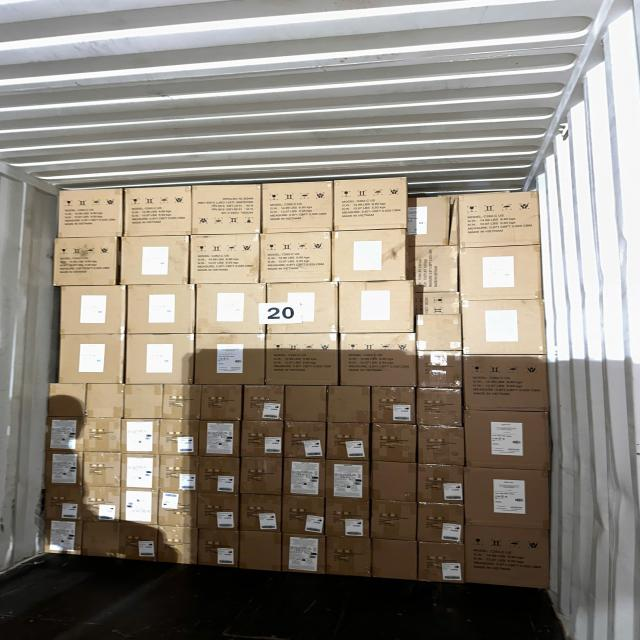Carton: (463, 526, 549, 592), (464, 408, 552, 469), (464, 466, 551, 527), (464, 352, 550, 409), (463, 300, 548, 357), (460, 190, 542, 248), (461, 249, 547, 302), (340, 333, 418, 388), (330, 232, 408, 285), (338, 281, 415, 334), (192, 332, 264, 387), (266, 281, 340, 334), (334, 178, 407, 231), (265, 334, 339, 386), (261, 234, 333, 286), (262, 182, 334, 234), (189, 183, 259, 236), (124, 335, 196, 386), (196, 282, 266, 334), (120, 234, 191, 285), (126, 288, 196, 339), (190, 233, 260, 283), (125, 186, 193, 237), (60, 284, 126, 334), (59, 335, 124, 385), (59, 189, 122, 239), (55, 236, 119, 285), (198, 458, 240, 524), (412, 247, 458, 293), (372, 539, 420, 582), (413, 195, 453, 246), (418, 541, 464, 585), (326, 538, 373, 580), (414, 314, 464, 353), (369, 462, 415, 504), (418, 465, 466, 505), (415, 389, 464, 428), (418, 423, 464, 464), (114, 522, 158, 564), (371, 502, 417, 542), (418, 506, 464, 546), (237, 532, 280, 574), (282, 535, 326, 576), (326, 460, 370, 500), (372, 423, 417, 462), (417, 349, 462, 388), (282, 494, 325, 534), (327, 421, 371, 460), (328, 387, 372, 426), (326, 501, 371, 539), (369, 388, 414, 426), (157, 525, 199, 565), (285, 386, 329, 424), (80, 523, 121, 563), (283, 458, 323, 498), (198, 490, 239, 529), (242, 493, 284, 531), (242, 458, 284, 496), (242, 420, 285, 457), (199, 530, 238, 570), (245, 386, 286, 424), (157, 418, 198, 456), (285, 421, 327, 458), (157, 489, 196, 528), (201, 386, 242, 423), (80, 416, 121, 453), (200, 420, 240, 457), (165, 385, 204, 422), (48, 379, 87, 416), (123, 384, 163, 420), (82, 486, 122, 522), (122, 456, 160, 492), (159, 457, 199, 491), (123, 419, 160, 455), (85, 384, 122, 420), (122, 488, 158, 525), (46, 522, 82, 559), (83, 452, 122, 486), (48, 451, 84, 486), (49, 416, 83, 452), (45, 486, 82, 519), (414, 291, 462, 316)
